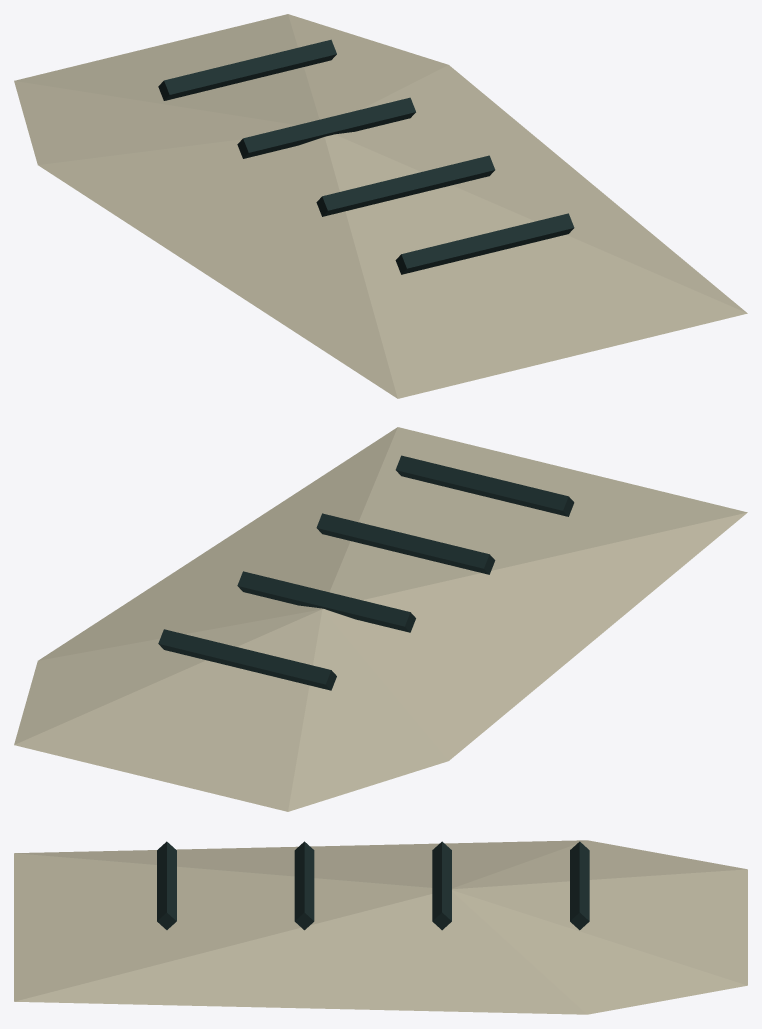
The model's file is judge_tablet.glb.
3 views of the same model, one above another, from view 1: azimuth 30°, elevation 25°; view 2: azimuth 150°, elevation 25°; view 3: azimuth 270°, elevation 25° (orthographic). The views are drawn at different scales.
Visible parts, largest first — view 1: BladeMesh; view 2: BladeMesh; view 3: BladeMesh.
Part boxes in pixels (x1,y1,x2,y2): BladeMesh: [14, 14, 747, 398]; BladeMesh: [14, 427, 747, 811]; BladeMesh: [14, 840, 747, 1014].
Bounding box in the file's own units: 0.54 × 0.128 × 0.96.
